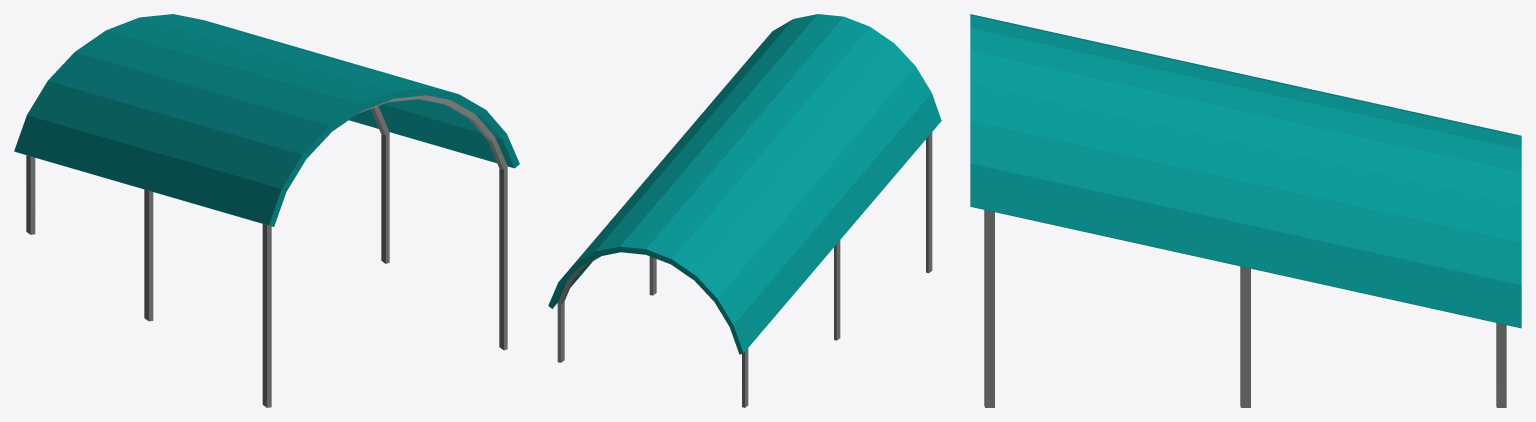
Rendered from SM_canopy_01.glb.
The picture shows the model from 3 angles, left to right: view 1: azimuth 30°, elevation 25°; view 2: azimuth 150°, elevation 25°; view 3: azimuth 270°, elevation 25°; orthographic projection. The views are drawn at different scales.
Visible parts, largest first — view 1: SM_canopy_01; view 2: SM_canopy_01; view 3: SM_canopy_01.
Boxes of the visible parts, x1=… form: SM_canopy_01: x1=14, y1=14, x2=519, y2=407; SM_canopy_01: x1=548, y1=14, x2=941, y2=407; SM_canopy_01: x1=970, y1=14, x2=1521, y2=407.
Size of the model in its own units: 1.96 by 2.18 by 3.45.
1 material, 1 textured.
